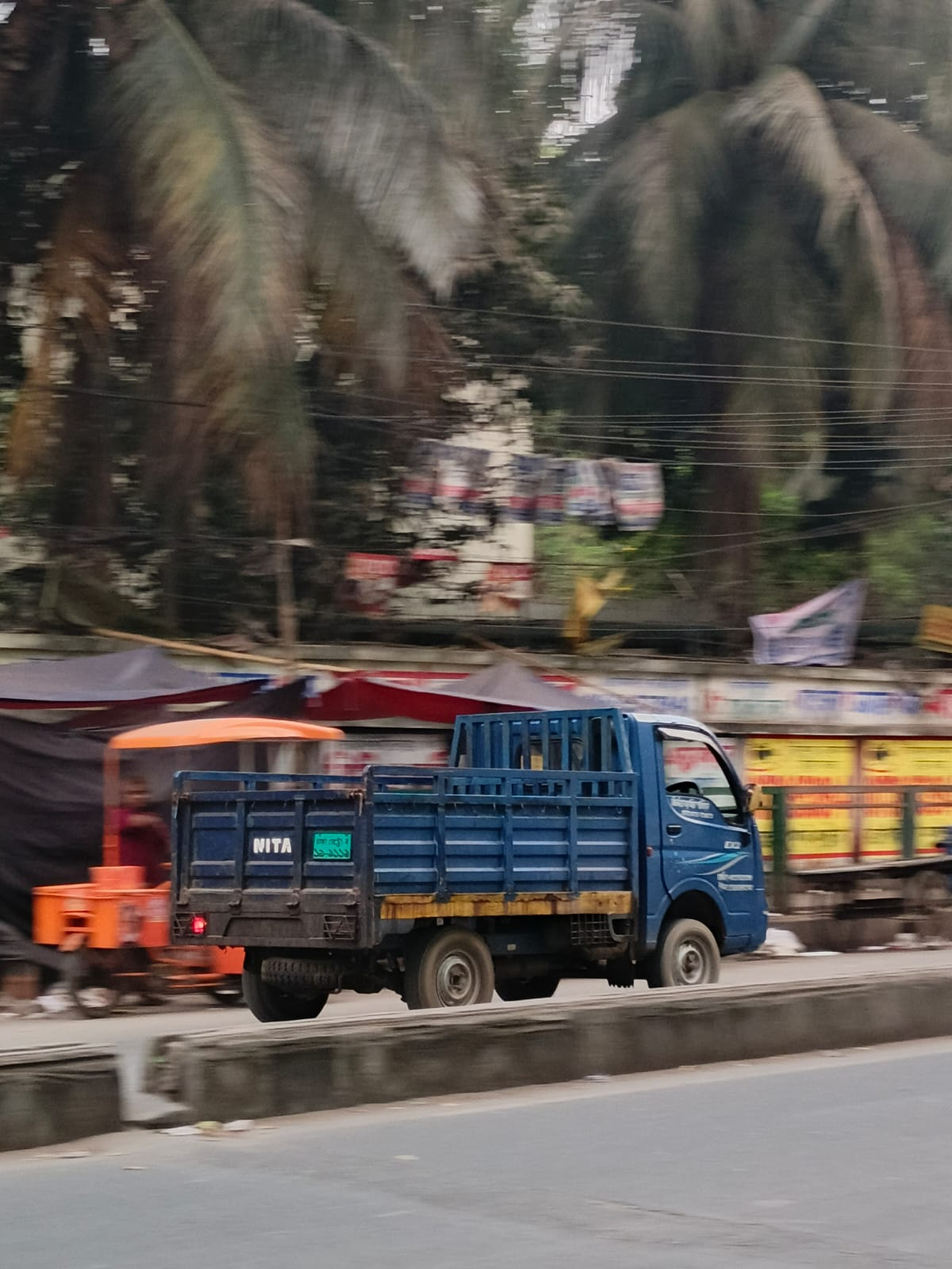Pickup: (148, 564, 895, 1113)
